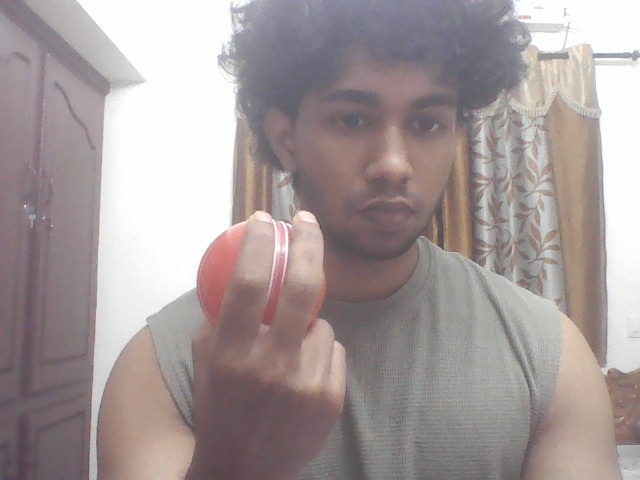cricket_ball: (195, 211, 329, 332)
